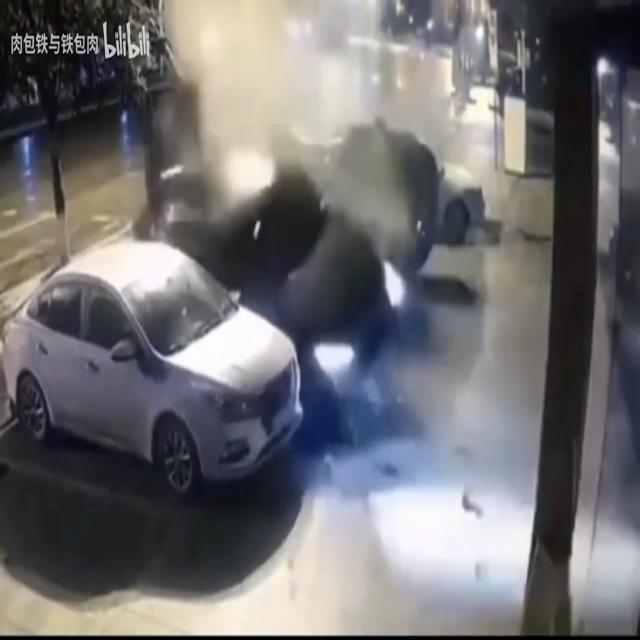accident: (1, 105, 488, 488)
